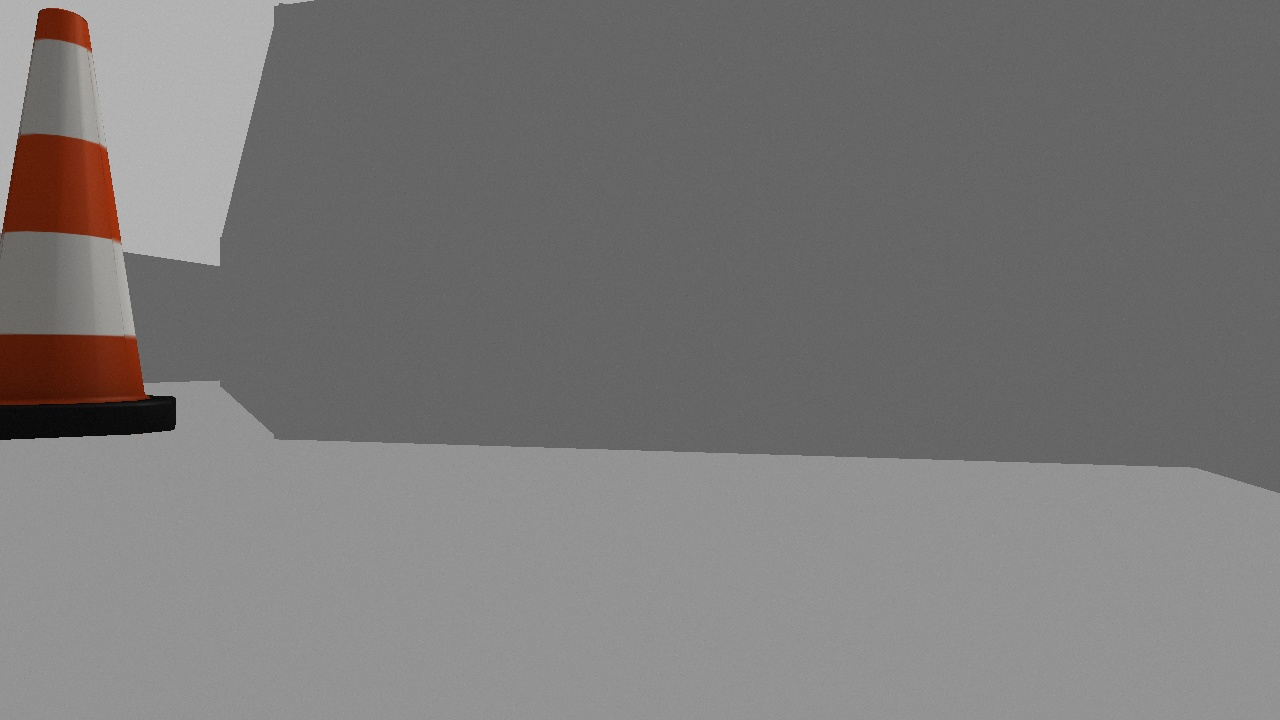barricade: (1, 1, 198, 447)
